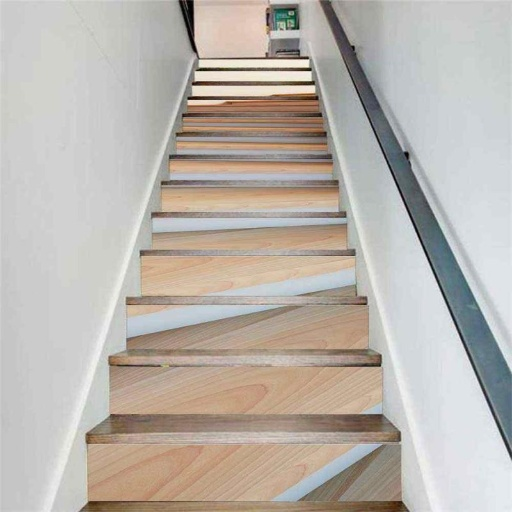Stairs: (82, 58, 420, 512)
